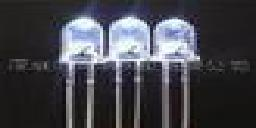LED: (56, 13, 104, 128), (152, 19, 201, 128), (109, 15, 151, 80)
